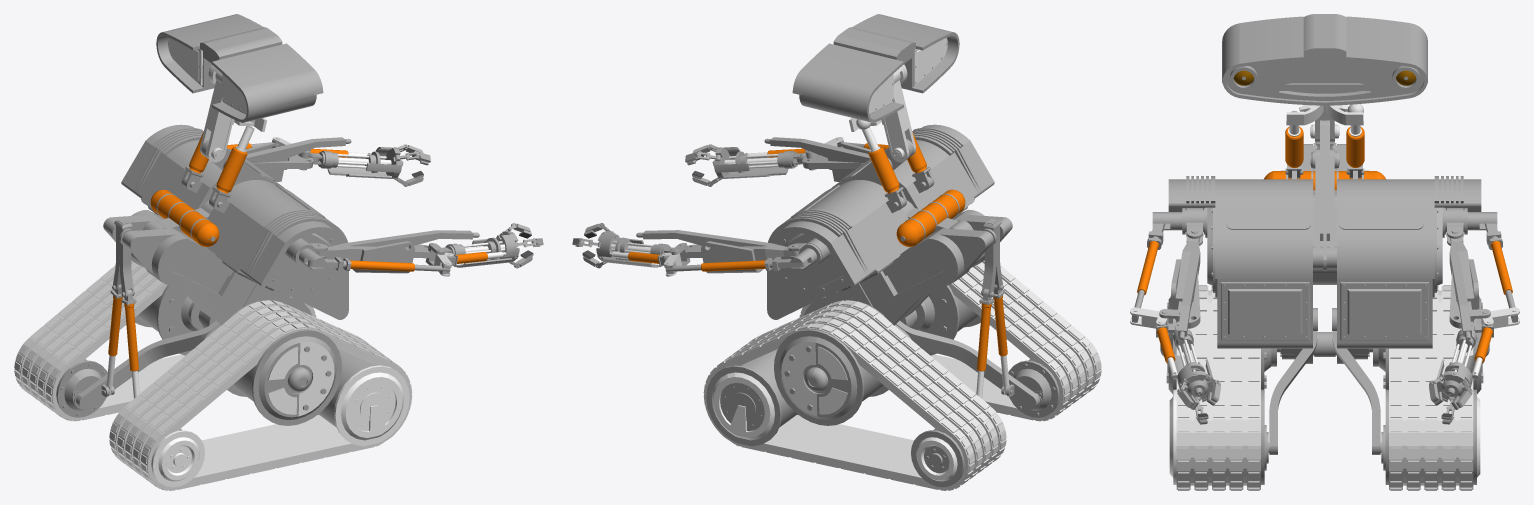
3 renders of one model, left to right at view 1: azimuth 30°, elevation 25°; view 2: azimuth 150°, elevation 25°; view 3: azimuth 270°, elevation 25°, orthographic. The views are drawn at different scales.
Visible parts, largest first — view 1: Layer0_001, body_003, body_001, Group_006, Group_003, Group_018, Group_022, Group_014, Group_010, Group_001, Conction1_001, Group_019 (+7 smaller); view 2: Layer0_001, body_001, body_003, Group_006, Group_001, Group_010, Group_014, Group_022, Group_018, Group_003, Group_011, Conction1_003 (+6 smaller); view 3: body_003, body_001, Layer0_001, Group_006, Group_022, Group_014, Group_003, Group_001, Group_021, Group_013, Group_019, Group_011 (+8 smaller).
Boxes of the visible parts, x1,y1,x2,y2 form: Layer0_001: (14, 260, 412, 490); body_003: (118, 139, 348, 338); body_001: (74, 124, 283, 409); Group_006: (156, 14, 323, 122); Group_003: (151, 349, 409, 487); Group_018: (227, 301, 341, 425); Group_022: (317, 223, 543, 273); Group_014: (245, 137, 430, 186); Group_010: (135, 285, 203, 355); Group_001: (56, 296, 311, 417); Conction1_001: (206, 72, 267, 162); Group_019: (209, 125, 254, 210); Layer0_001: (703, 260, 1101, 490); body_001: (767, 139, 997, 338); body_003: (832, 124, 1041, 409); Group_006: (792, 14, 959, 122); Group_001: (706, 349, 964, 487); Group_010: (774, 301, 888, 425); Group_014: (572, 223, 798, 273); Group_022: (685, 137, 870, 186); Group_018: (912, 285, 980, 355); Group_003: (804, 296, 1059, 417); Group_011: (862, 127, 906, 210); Conction1_003: (849, 72, 909, 162); body_003: (1152, 120, 1339, 470); body_001: (1310, 120, 1497, 470); Layer0_001: (1176, 285, 1473, 490); Group_006: (1222, 14, 1427, 105); Group_022: (1159, 237, 1220, 424); Group_014: (1429, 237, 1490, 424); Group_003: (1169, 389, 1264, 484); Group_001: (1385, 389, 1480, 484); Group_021: (1131, 223, 1165, 322); Group_013: (1484, 223, 1518, 322); Group_019: (1285, 110, 1303, 178); Group_011: (1346, 125, 1364, 178).
Bounding box in the file's own units: 291 × 259 × 218.
